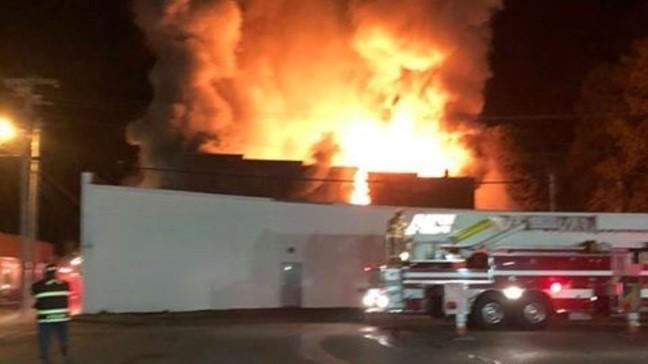fire: (331, 111, 461, 170)
smoke: (251, 9, 454, 72), (160, 0, 245, 134)
